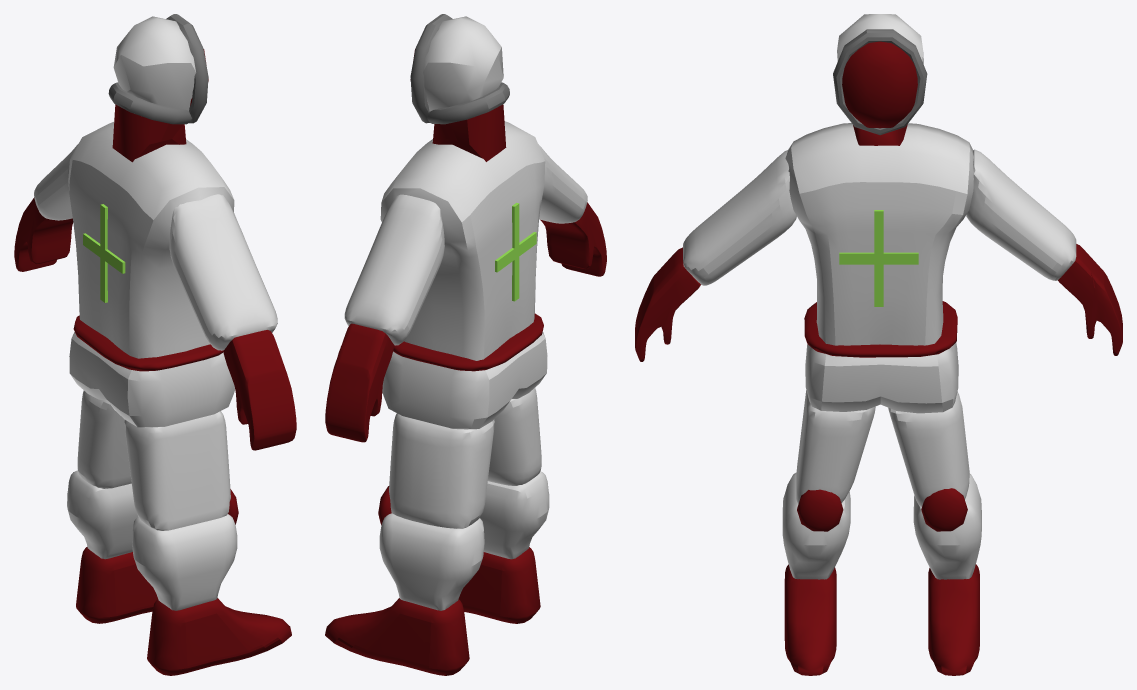
The model's file is Medic1.fbx.
3 renders of one model, left to right at view 1: azimuth 30°, elevation 25°; view 2: azimuth 150°, elevation 25°; view 3: azimuth 270°, elevation 25°, orthographic.
Parts seen in each view (by area): view 1: Body, ArmRight, LegRight, Cube.006, Cube.004, BottomLegRight, HandRight, BaseHead, Cube.003, BottomLegRight.001, LegLeft, HandRight.001 (+7 smaller); view 2: Body, LegLeft, ArmLeft, Cube.006, Cube.003, BottomLegRight.001, BaseHead, HandRight.001, Cube.004, BottomLegRight, LegRight, HandRight (+7 smaller); view 3: Body, Cube.006, ArmRight, ArmLeft, LegLeft, LegRight, BlackCover, Cube.004, Cube.003, BottomLegRight, BottomLegRight.001, HandRight (+9 smaller).
Part boxes in pixels (x1,y1,x2,y2): Body: (68, 122, 234, 358); ArmRight: (169, 194, 277, 350); LegRight: (124, 411, 230, 530); Cube.006: (69, 332, 234, 427); Cube.004: (147, 598, 291, 675); BottomLegRight: (132, 514, 237, 610); HandRight: (223, 330, 296, 450); BaseHead: (113, 16, 195, 110); Cube.003: (76, 547, 157, 623); BottomLegRight.001: (67, 470, 138, 559); LegLeft: (77, 390, 131, 488); HandRight.001: (14, 197, 73, 271); Body: (380, 121, 545, 360); LegLeft: (389, 413, 494, 528); ArmLeft: (344, 194, 444, 345); Cube.006: (382, 332, 547, 429); Cube.003: (325, 598, 469, 675); BottomLegRight.001: (379, 513, 484, 610); BaseHead: (423, 16, 503, 111); HandRight.001: (325, 323, 394, 442); Cube.004: (458, 547, 540, 623); BottomLegRight: (480, 471, 549, 559); LegRight: (488, 388, 541, 485); HandRight: (540, 202, 606, 276); Body: (785, 123, 973, 345); Cube.006: (805, 342, 958, 413); ArmRight: (683, 150, 796, 285); ArmLeft: (966, 149, 1076, 280); LegLeft: (888, 391, 969, 506); LegRight: (796, 390, 875, 503); BlackCover: (842, 41, 917, 128); Cube.004: (784, 564, 836, 675); Cube.003: (928, 564, 979, 675); BottomLegRight: (782, 472, 850, 579); BottomLegRight.001: (913, 473, 981, 579); HandRight: (635, 247, 700, 361).
Bounding box in the file's own units: 115 × 422 × 298.
